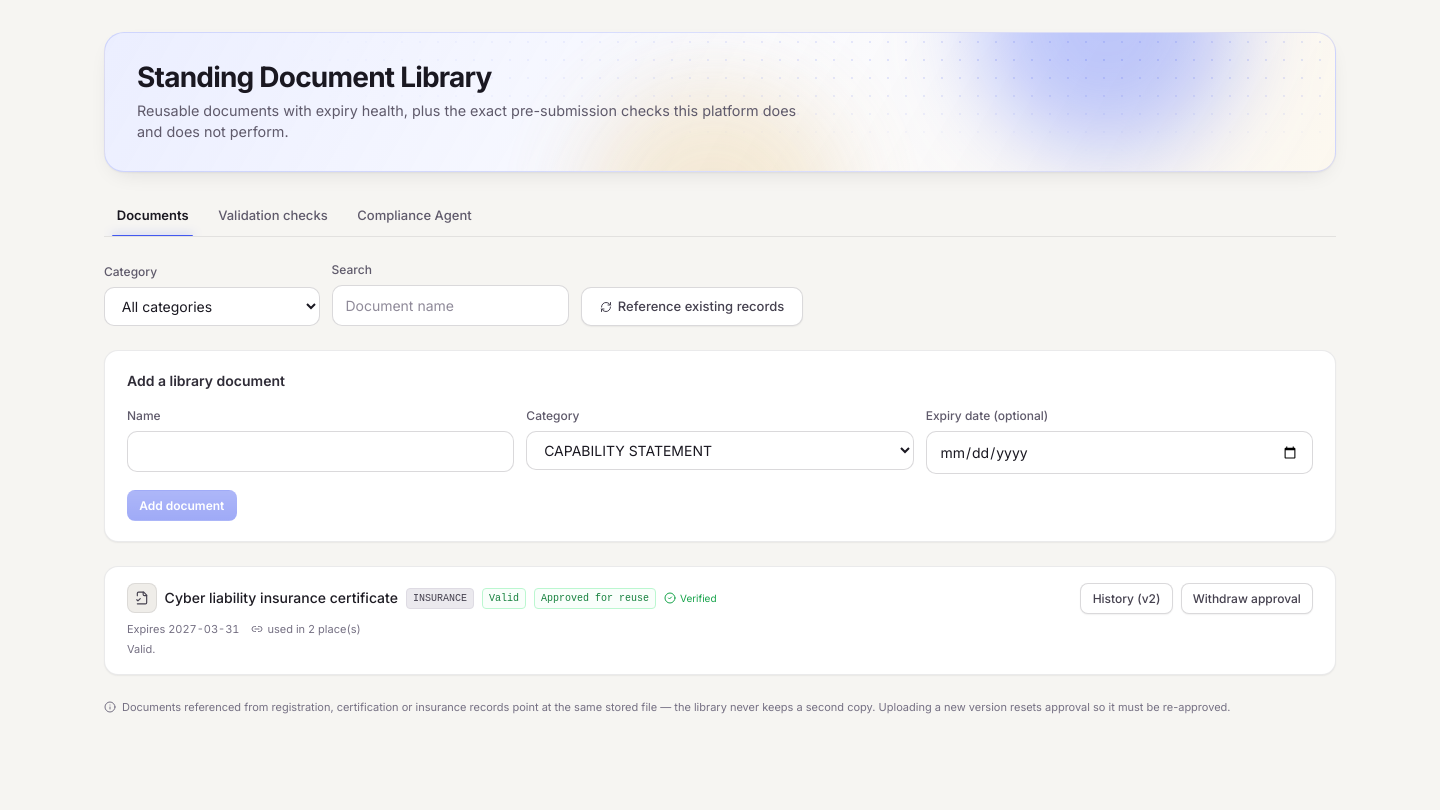
Test: DocumentLibrary — version history › stays usable when usage cannot be read
Click the button "History (v2)" at {"x": 1127, "y": 599}, box [1080,583,1173,614]
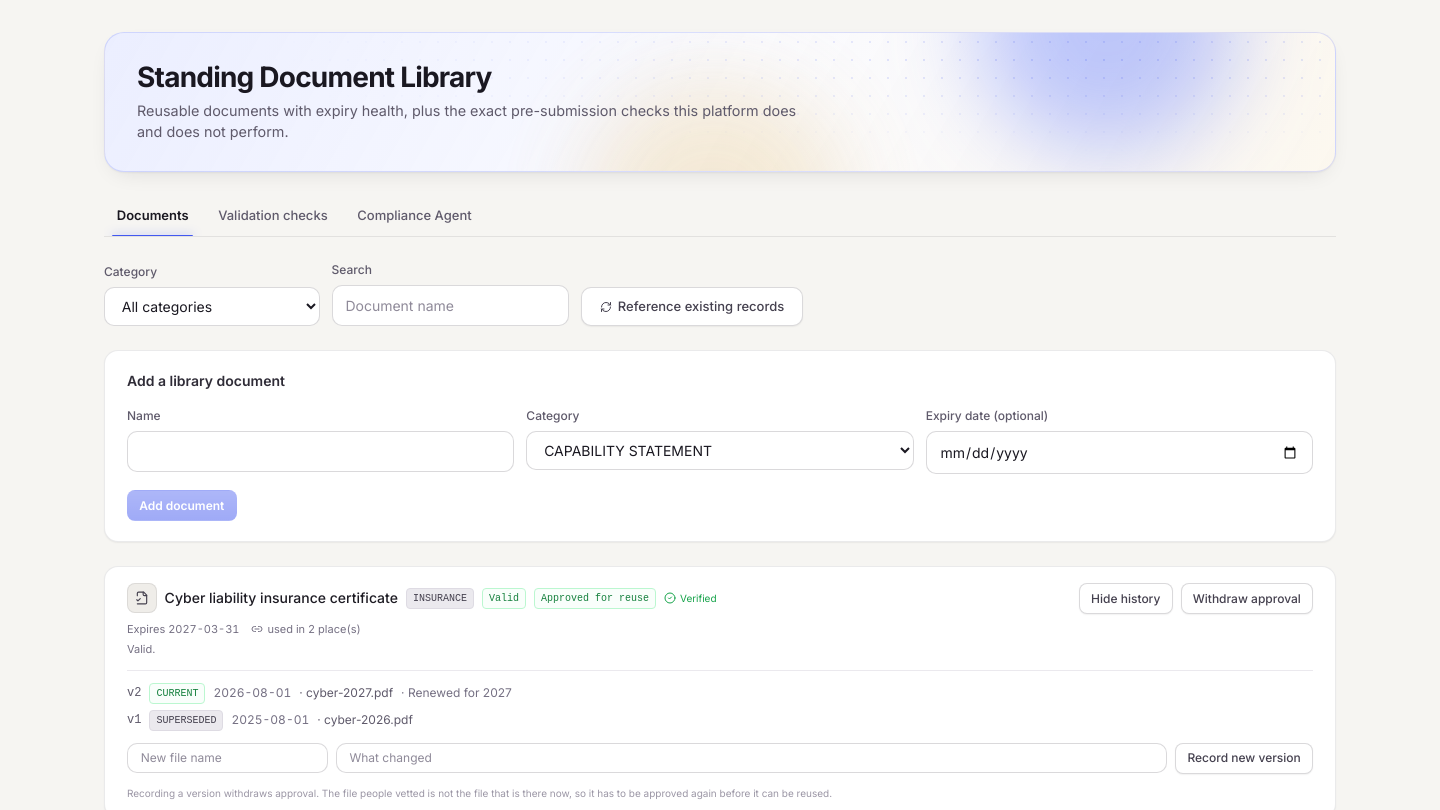
Check: the text "CURRENT" is shown, box [149,683,205,704]
